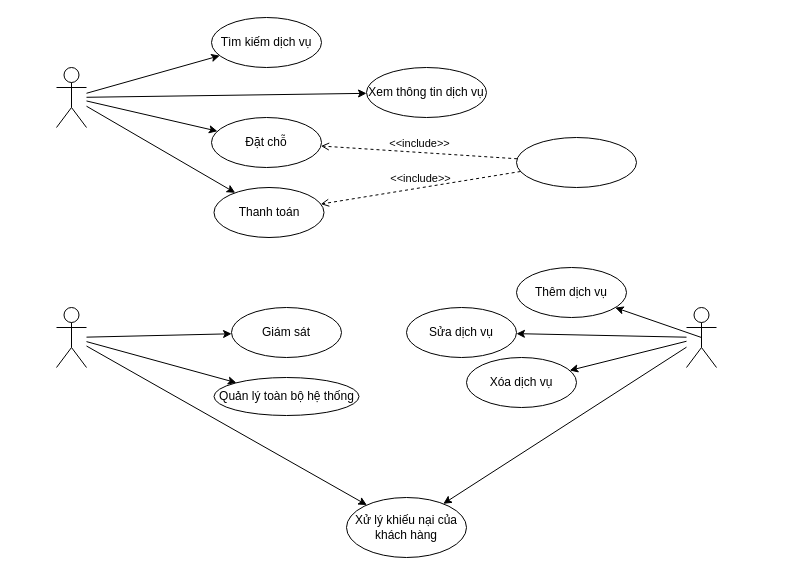
The diagram is 785 pixels wide and 575 high, and some of its shapes have lost their labels. The centre of each missing label's shape, as x and y in pixels:
"Admin (Quản Lý Hệ Thống)" goes at (71,337).
"Service Provider (Nhà Cung Cấp Dịch Vụ)" goes at (701,337).
"User (Khách Hàng)" goes at (71,97).
"Đăng nhập" goes at (576,162).
